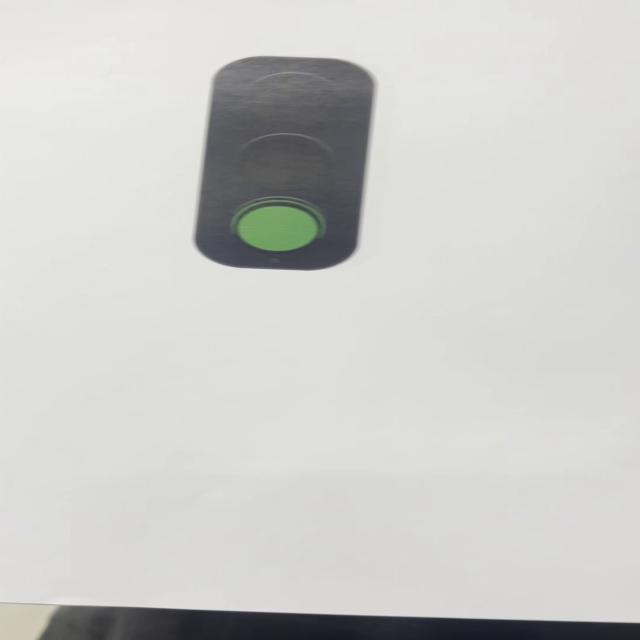green: (193, 56, 373, 272)
